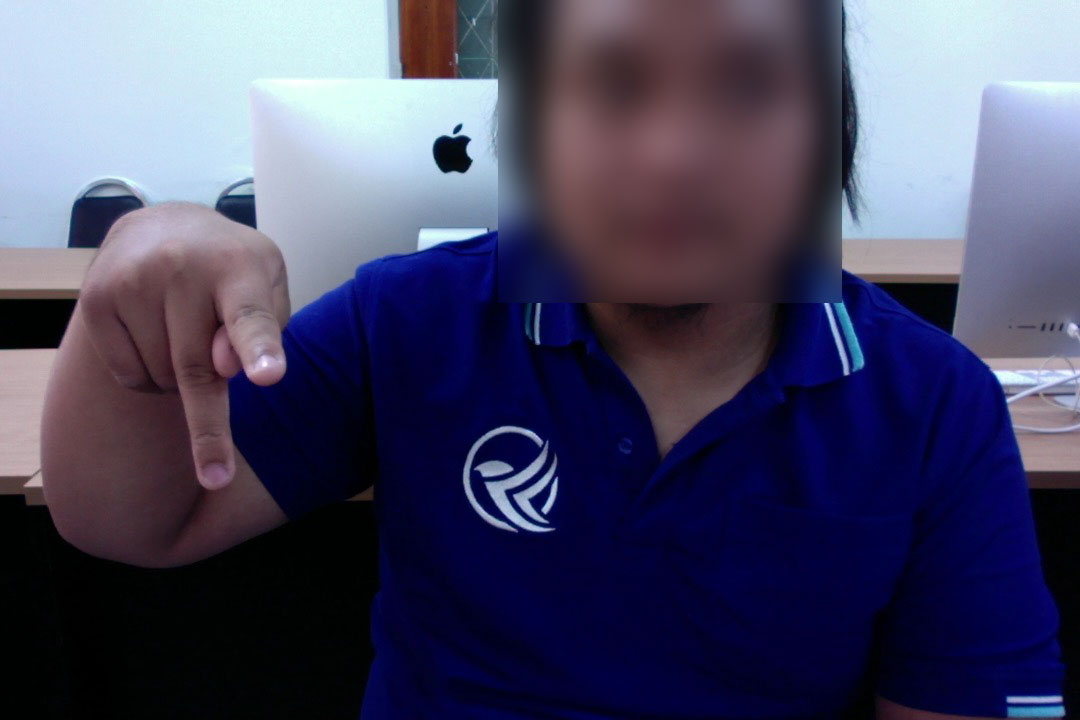por: (81, 190, 295, 498)
